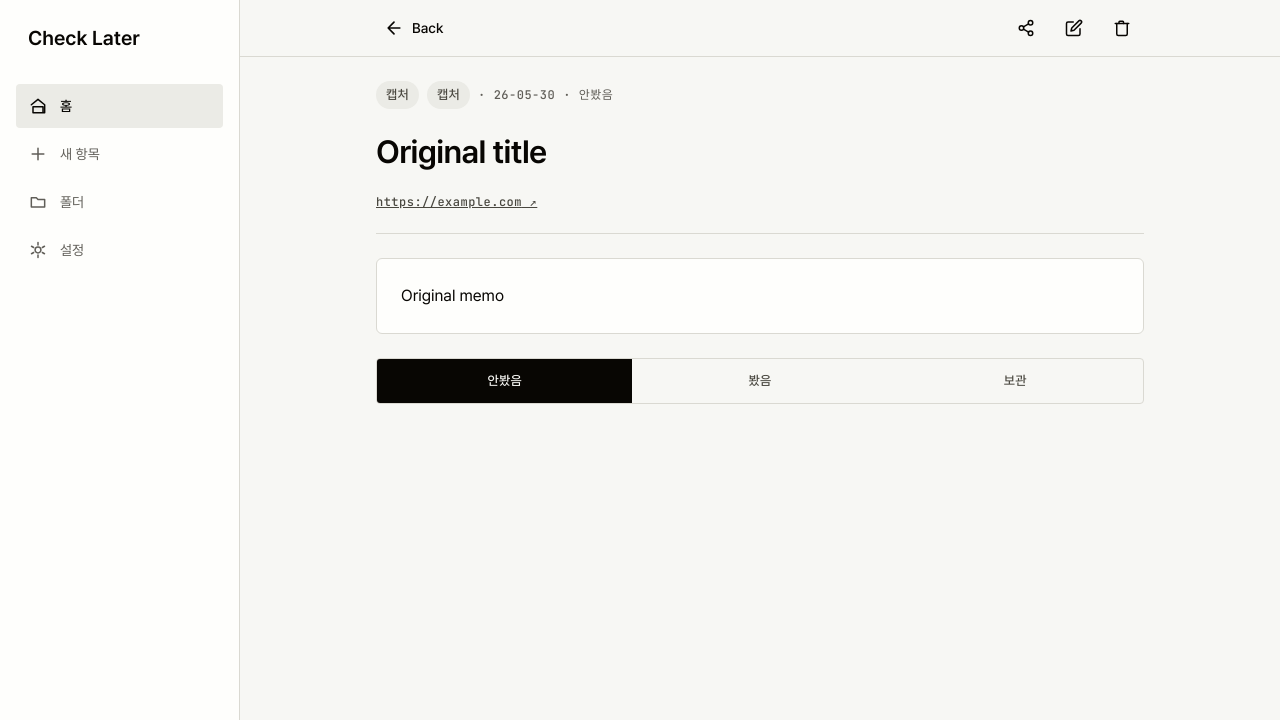
ItemDetailPage › cancels ConfirmDialog without deleting
The image size is (1280, 720).
Click the button named "항목 삭제": (1122, 28) x1=1100 y1=6 x2=1144 y2=50
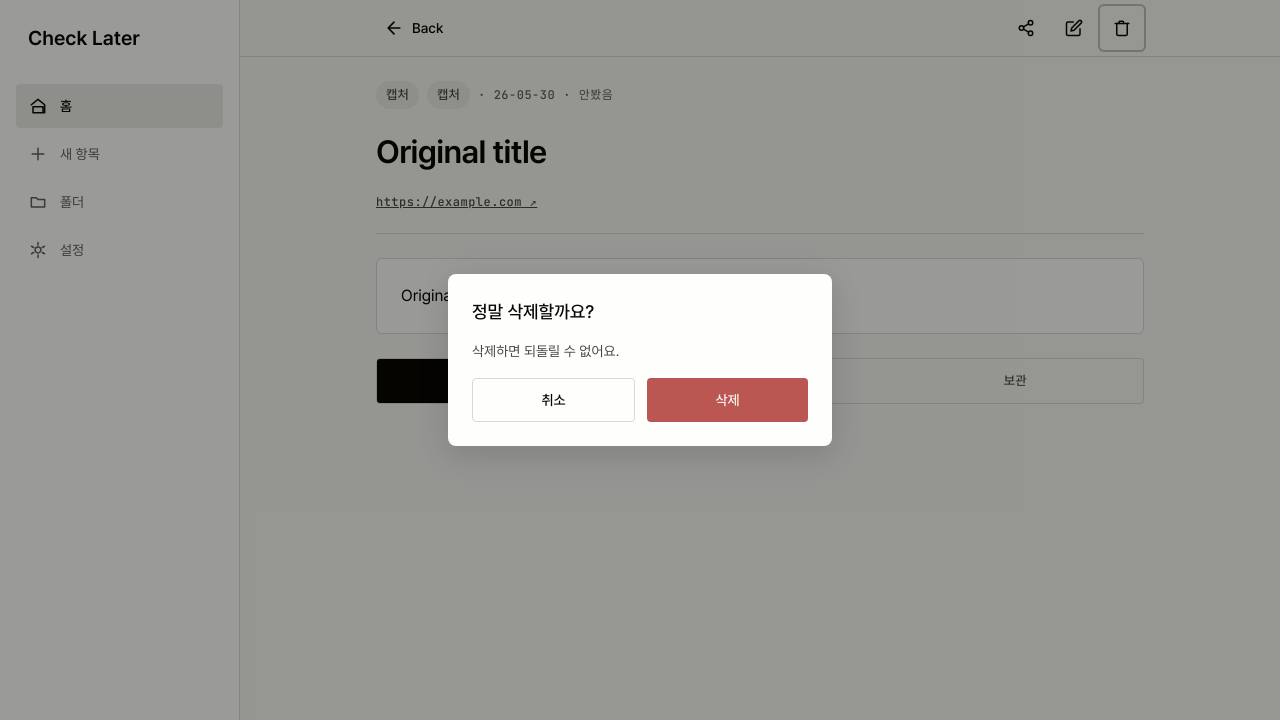
Expected: the heading "정말 삭제할까요?" is shown, x1=472 y1=301 x2=594 y2=322
Click the button "취소": (554, 400) x1=472 y1=378 x2=635 y2=422
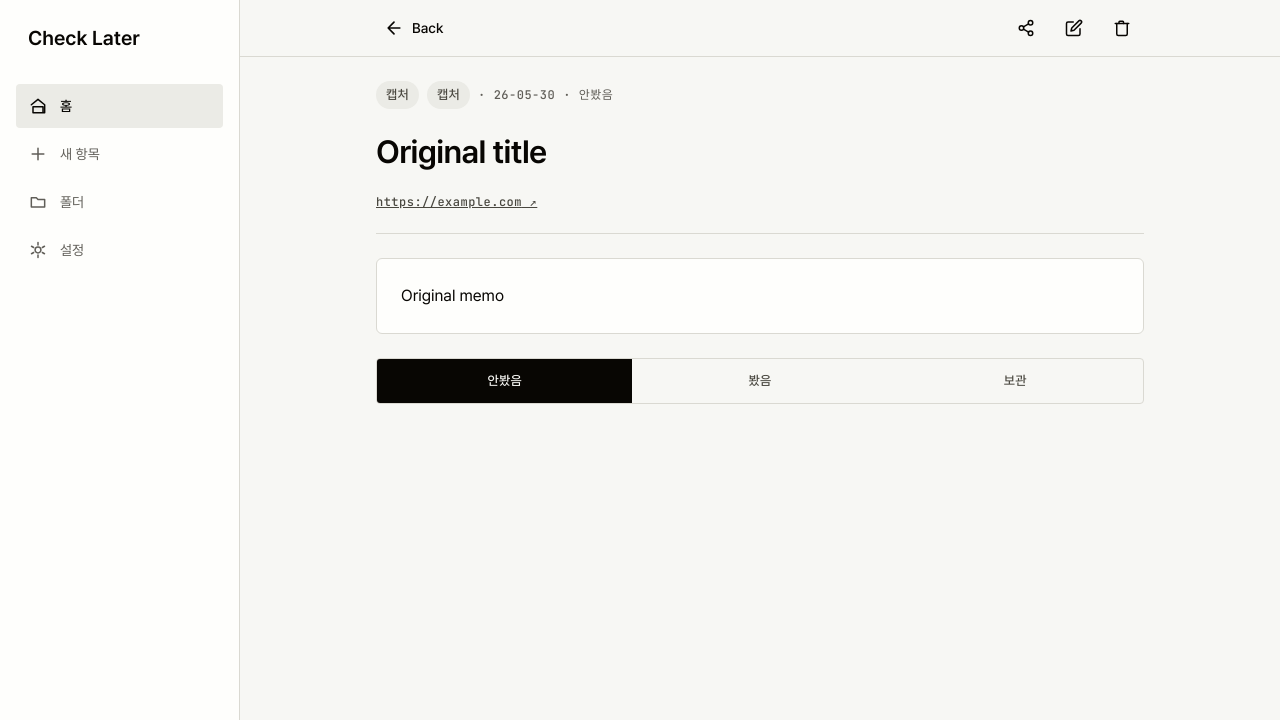
Expected: the heading "정말 삭제할까요?" is gone
